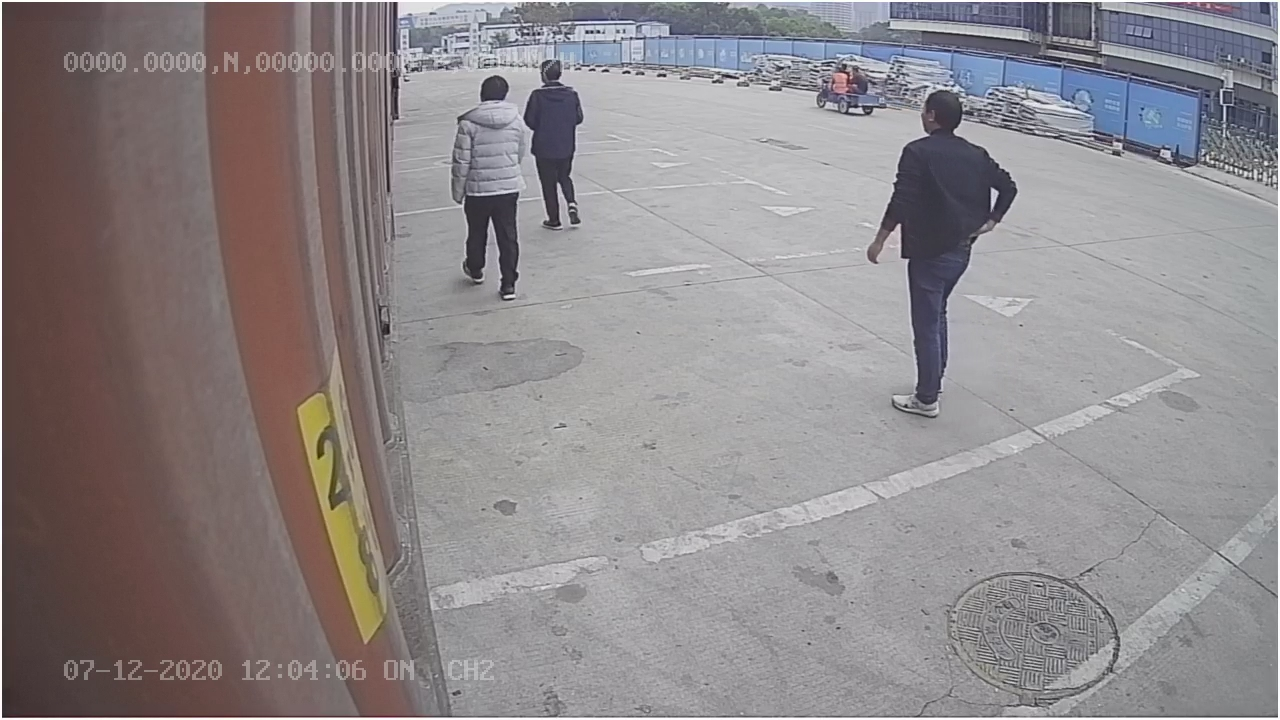person: (863, 85, 1019, 417), (446, 69, 530, 300)
